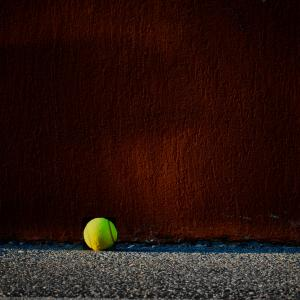TennisBall: (84, 218, 118, 252)
